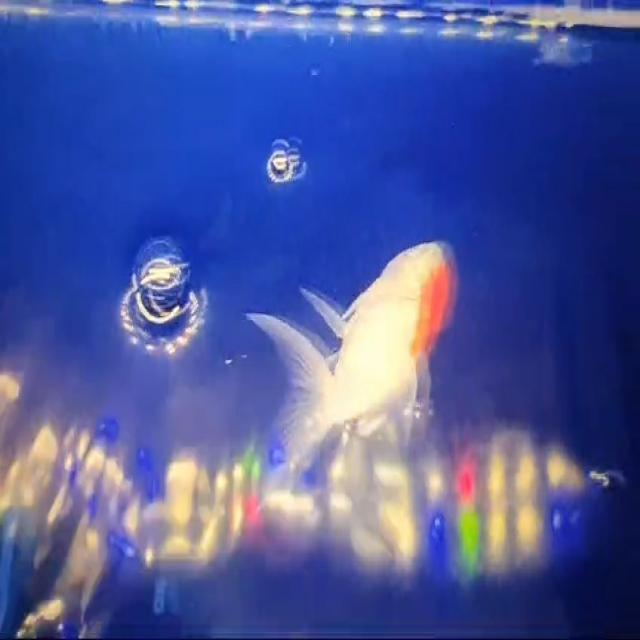fish: (240, 229, 469, 490)
